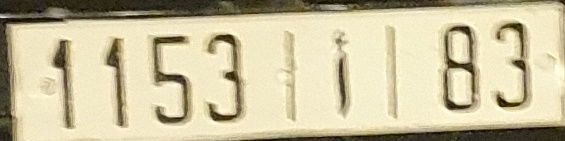1: (101, 36, 131, 131), (50, 36, 79, 131)
3: (492, 20, 535, 111), (205, 31, 245, 124)
5: (149, 32, 194, 128)
8: (440, 22, 482, 114)
a: (330, 30, 354, 118)
